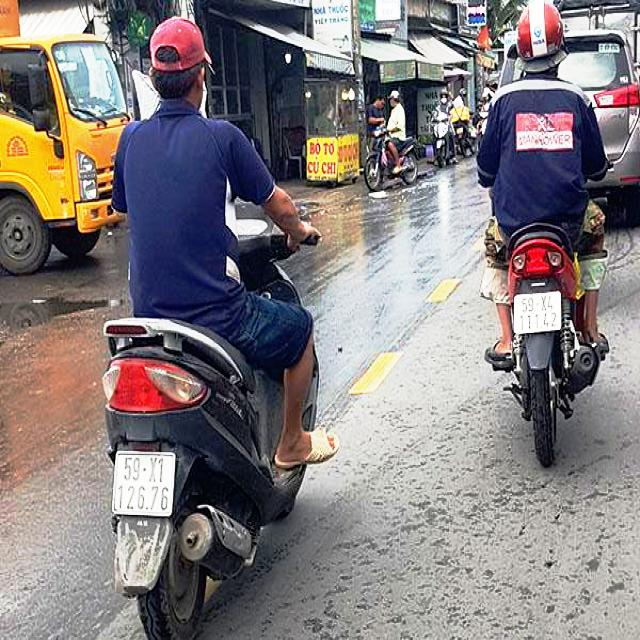license_plate: (115, 452, 177, 516)
